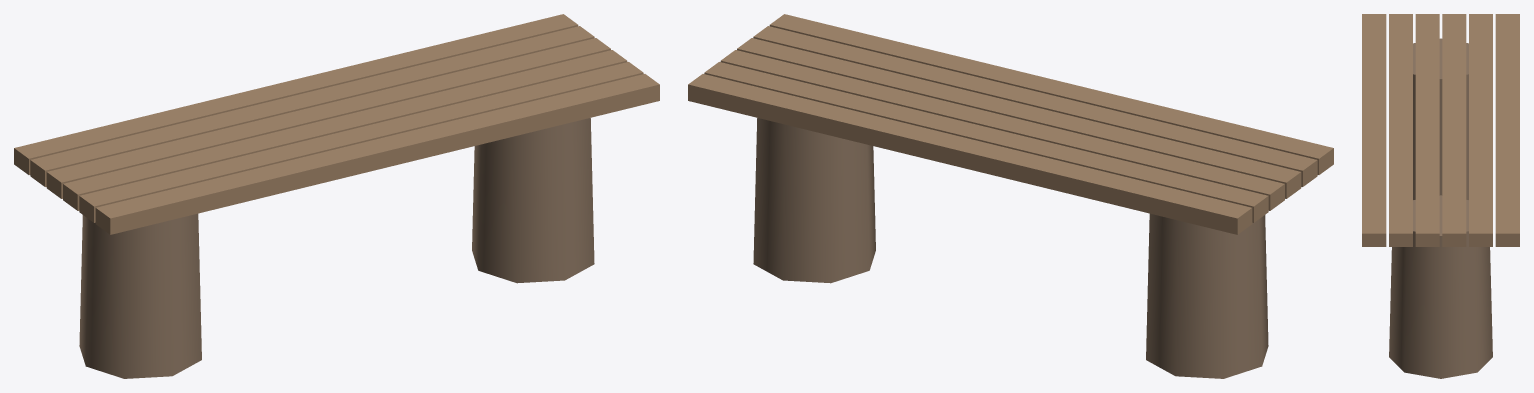
Rendered from build_bench.glb.
3 views of the same model, side by side, from view 1: azimuth 30°, elevation 25°; view 2: azimuth 150°, elevation 25°; view 3: azimuth 270°, elevation 25° (orthographic). The views are drawn at different scales.
Visible parts, largest first — view 1: Baked; view 2: Baked; view 3: Baked.
Part boxes in pixels (<box>): Baked: <box>14,14,659,378</box>; Baked: <box>688,14,1333,378</box>; Baked: <box>1362,14,1519,378</box>.
Size of the model in its own units: 1.4 by 0.46 by 0.425.
